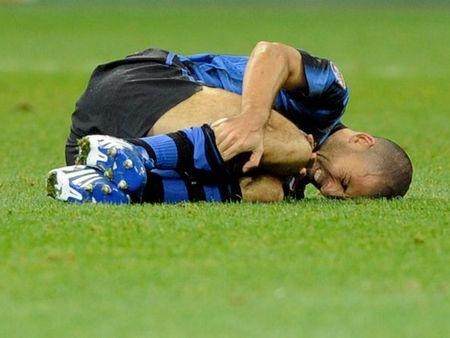falling: (45, 24, 411, 212)
